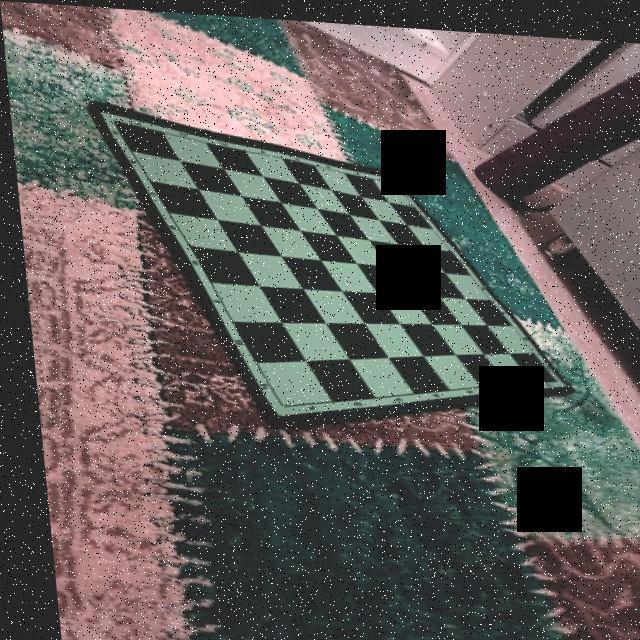chess-table-corners: (378, 165, 408, 188), (532, 362, 562, 384), (101, 108, 126, 128), (262, 393, 288, 412)
